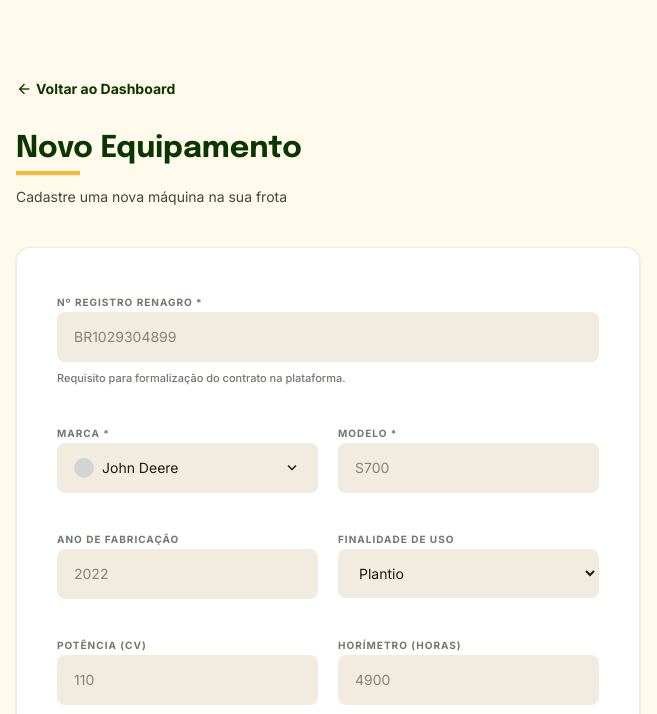
it: shows registry and model rules before submitting
Type "123" into the field labelled "Nº Registro Renagro *".
click(328, 337); type("123")  # box [57, 312, 599, 362]
(page scrolled)
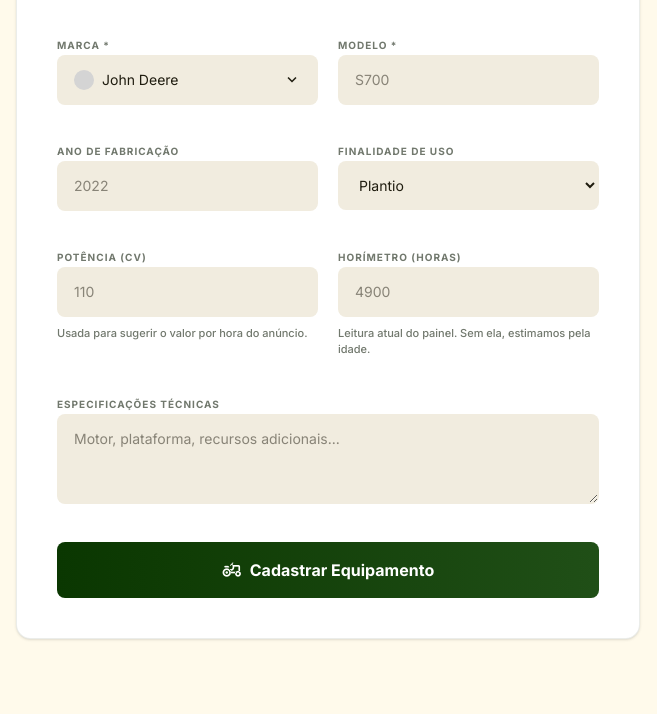
Click the button "Cadastrar Equipamento".
click(328, 570)  # box [57, 542, 599, 598]
(page scrolled)
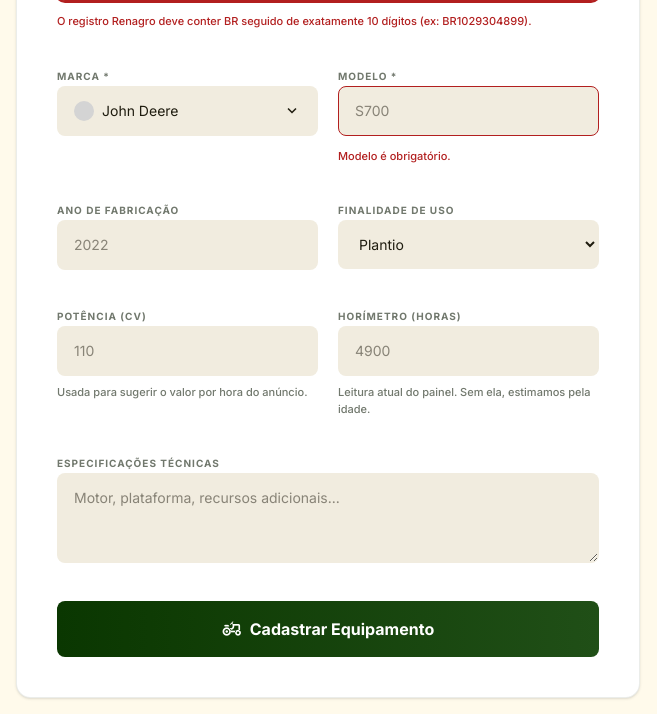
Expected: the text "O registro Renagro deve conter BR" is shown, [57, 14, 532, 28]
Expected: the text "Modelo é obrigatório." is shown, [338, 148, 451, 162]
